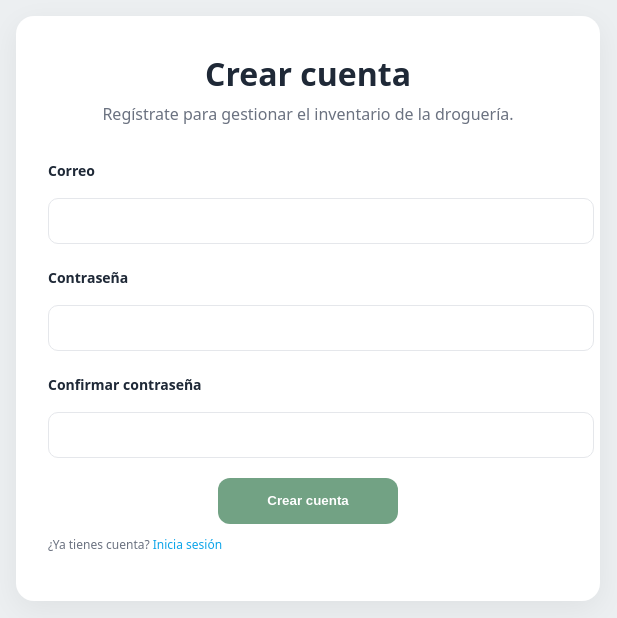
Test case: Register page › deshabilita el boton hasta que la forma sea valida
Check: the button "Crear cuenta" is disabled, box top-left (218, 478), bottom-right (398, 524)
Type "a@a.com" into the field labelled "Correo" at (321, 220), box top-left (48, 198), bottom-right (594, 244)
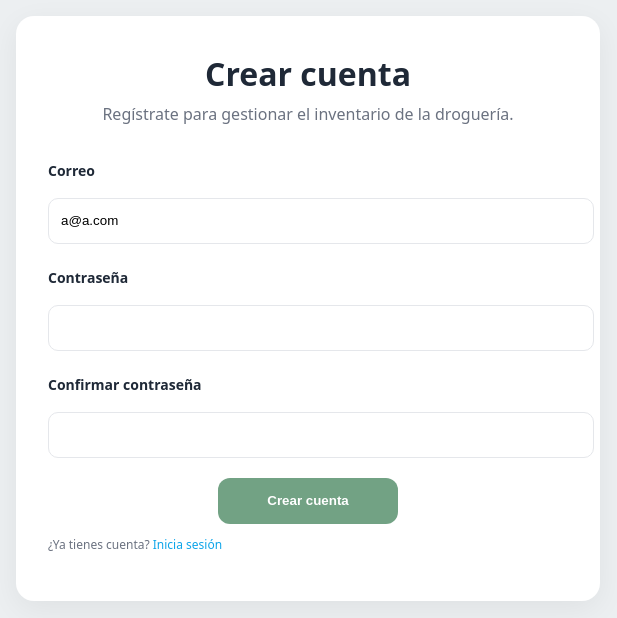
Type "Demo1234!" into the password field labelled "Contraseña" at (321, 328), box top-left (48, 304), bottom-right (594, 350)
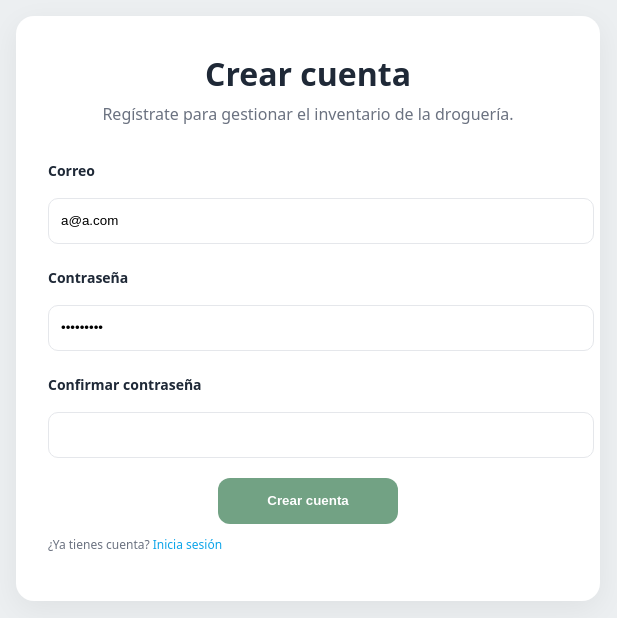
Type "Demo1234!" into the password field labelled "Confirmar contraseña" at (321, 434), box top-left (48, 412), bottom-right (594, 458)
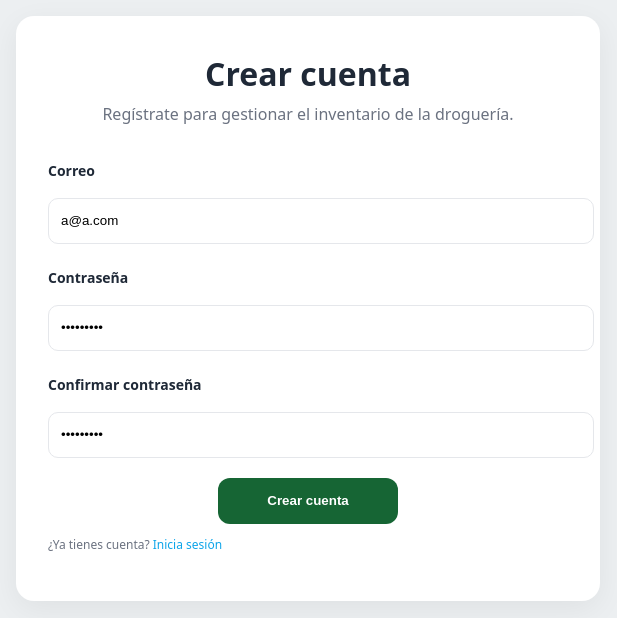
Check: the button "Crear cuenta" is enabled, box top-left (218, 478), bottom-right (398, 524)
